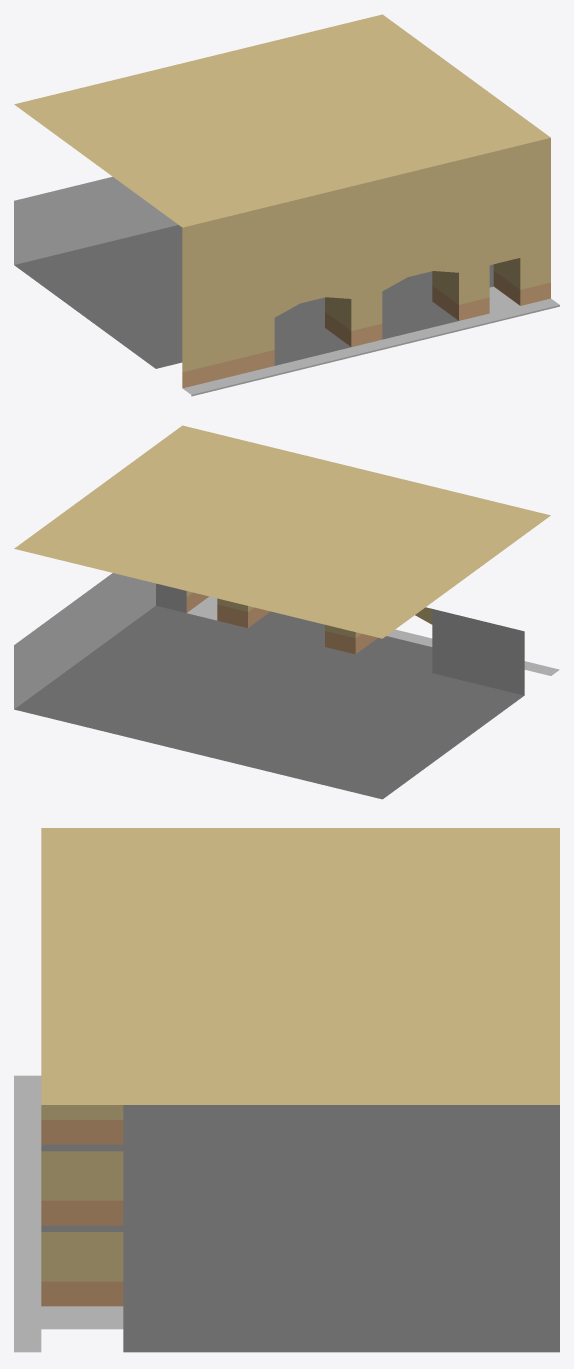
Rendered from parking.glb.
3 renders of one model, top to bottom at view 1: azimuth 30°, elevation 25°; view 2: azimuth 150°, elevation 25°; view 3: azimuth 270°, elevation 25°, orthographic. The views are drawn at different scales.
Parts seen in each view (by area): view 1: Entrance, Interior; view 2: Interior, Entrance; view 3: Entrance, Interior.
Boxes of the visible parts, x1,y1,x2,y2 form: Entrance: (14,14,550,388); Interior: (14,176,559,396); Interior: (14,573,559,799); Entrance: (14,425,550,672); Entrance: (41,828,559,1329); Interior: (14,1075,559,1352).
Size of what is drawn, in the model's own units: 24 by 10.1 by 20.
